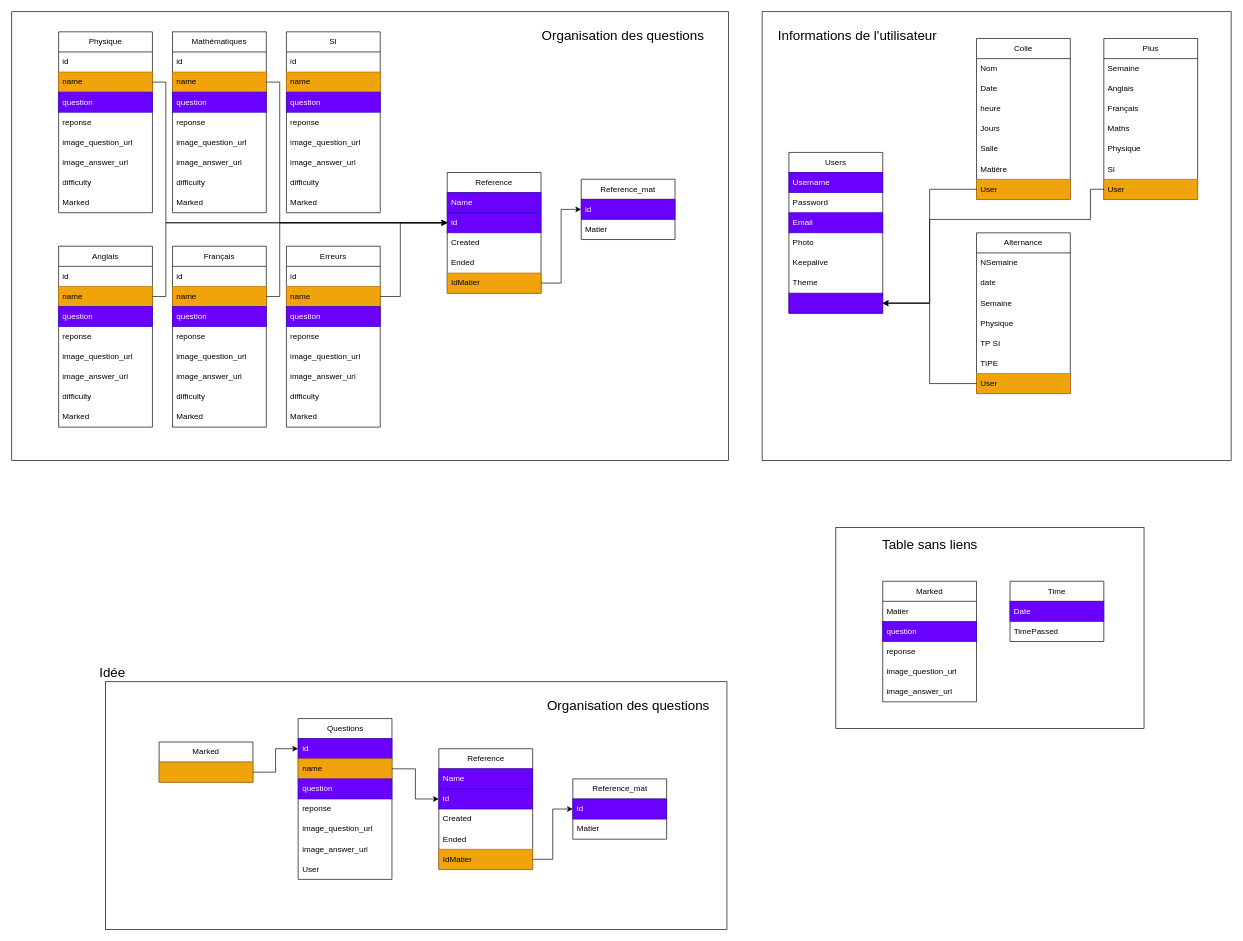
The diagram is 1243 pixels wide and 941 high, and some of its shapes have lost their labels. The shapes that lost their labels are listed below. From the top down, each one's centre as x and y in pixels, then its label:
the point at 835,302: Id_User
the point at 205,771: Id_Question
